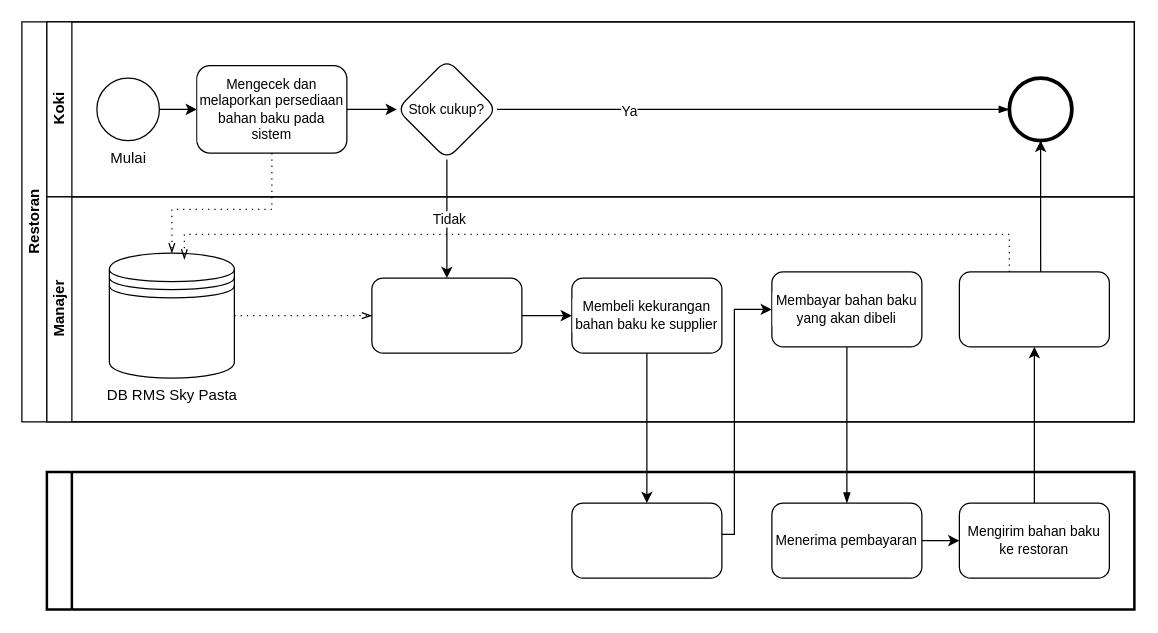
Image size: 1158x633. Some labels were removed from this diagram. Each missing label, with the box of its shape:
Menerima dan mengupdate data persediaan bahan baku: (958, 271, 1109, 347)
Menerima laporan kekurangan bahan baku: (371, 277, 522, 353)
Menerima pesanan bahan baku dan mengirim nota pembayaran: (571, 502, 722, 578)
Selesai: (1008, 77, 1072, 141)
Supplier: (45, 470, 1135, 610)
